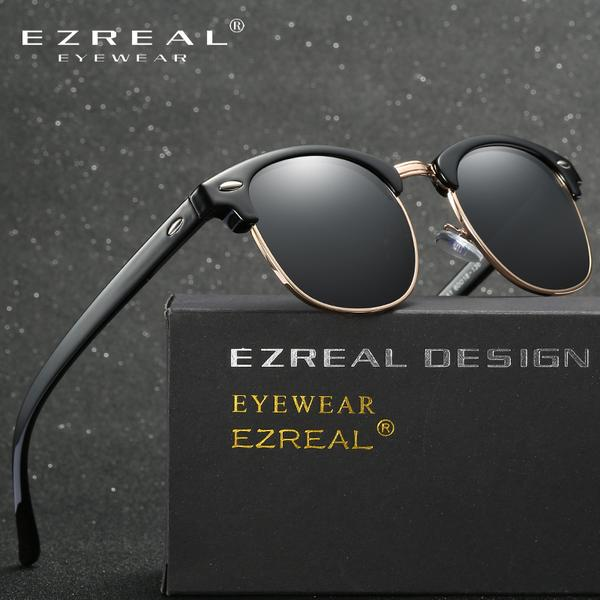sunglasses: (20, 125, 597, 345)
